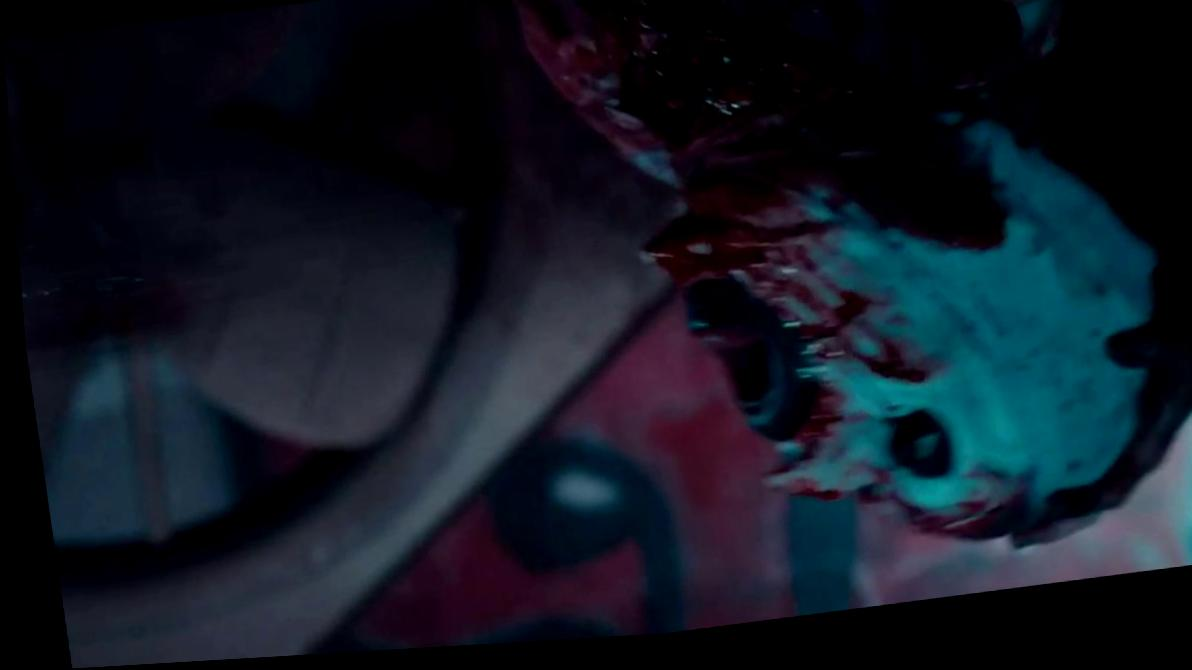Fire: (514, 0, 1020, 554), (715, 0, 1064, 100)
